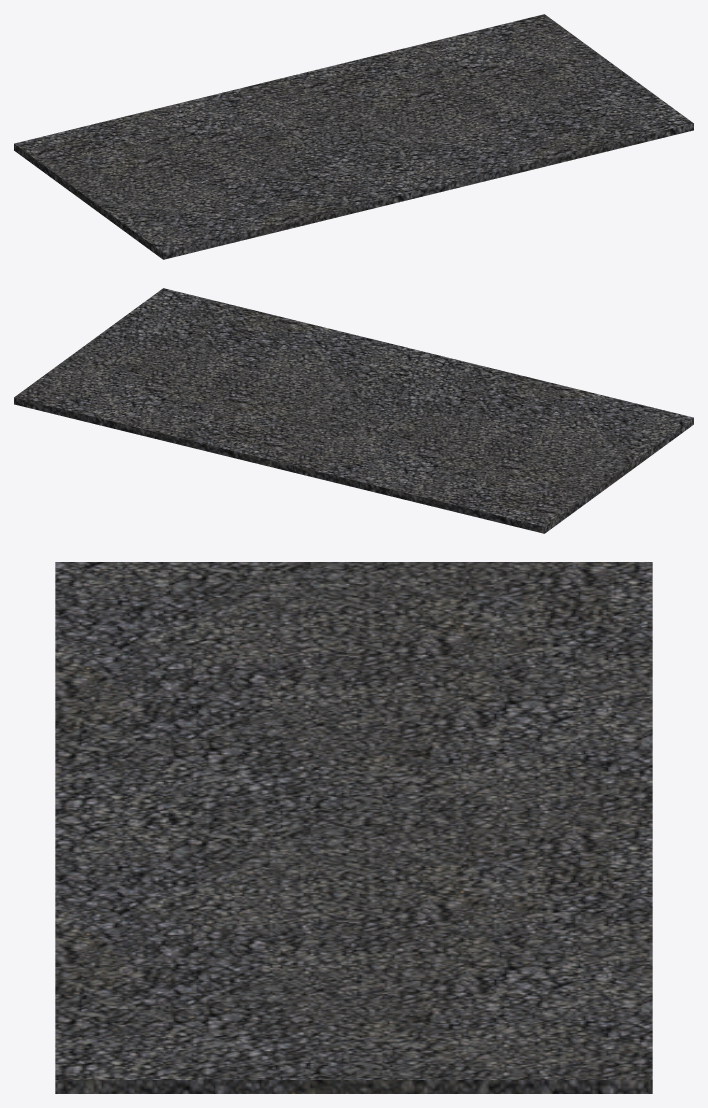
The model's file is Road.obj.
3 renders of one model, top to bottom at view 1: azimuth 30°, elevation 25°; view 2: azimuth 150°, elevation 25°; view 3: azimuth 270°, elevation 25°, orthographic. The views are drawn at different scales.
Visible parts, largest first — view 1: pCube1; view 2: pCube1; view 3: pCube1.
Boxes of the visible parts, <box> form: pCube1: <box>14,14,693,259</box>; pCube1: <box>14,288,693,533</box>; pCube1: <box>55,562,652,1093</box>.
Size of the model in its own units: 160 by 2 by 78.
Materials: 1 (1 with a texture image).
